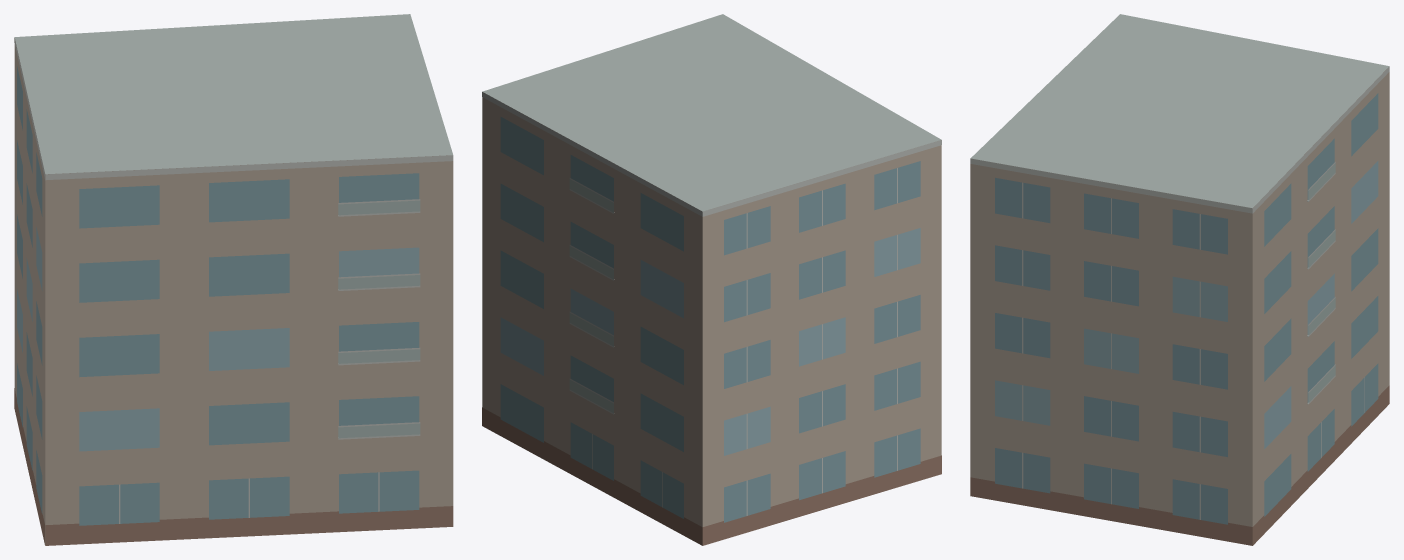
The model's file is survey-upis-32901150.glb.
3 renders of one model, left to right at view 1: azimuth 30°, elevation 25°; view 2: azimuth 150°, elevation 25°; view 3: azimuth 270°, elevation 25°, orthographic. The views are drawn at different scales.
Visible parts, largest first — view 1: survey-upis-32901150.tmp; view 2: survey-upis-32901150.tmp; view 3: survey-upis-32901150.tmp.
Boxes of the visible parts, x1,y1,x2,y2 form: survey-upis-32901150.tmp: (14, 14, 453, 545); survey-upis-32901150.tmp: (482, 14, 941, 545); survey-upis-32901150.tmp: (970, 14, 1389, 545).
Bounding box in the file's own units: 18.82 × 15.25 × 17.17.
